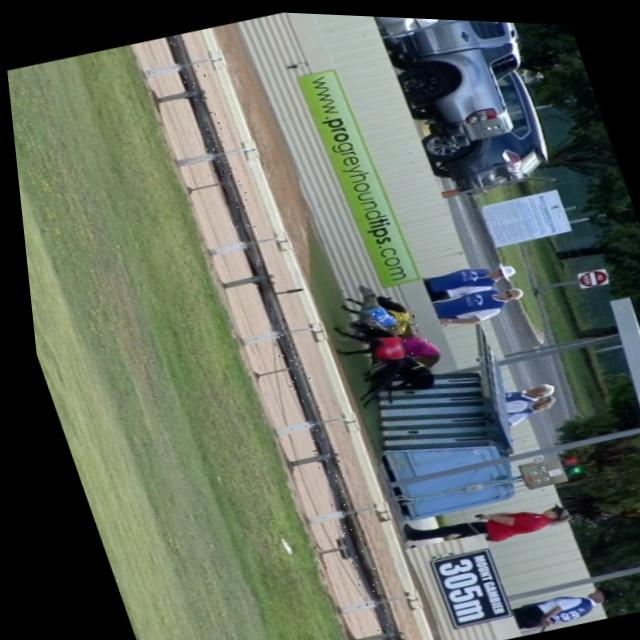dog_eight: (394, 328, 425, 354)
dog_five: (378, 305, 411, 333)
dog_four: (356, 304, 388, 327)
dog_one: (365, 333, 399, 358)
rail: (166, 33, 387, 640)
